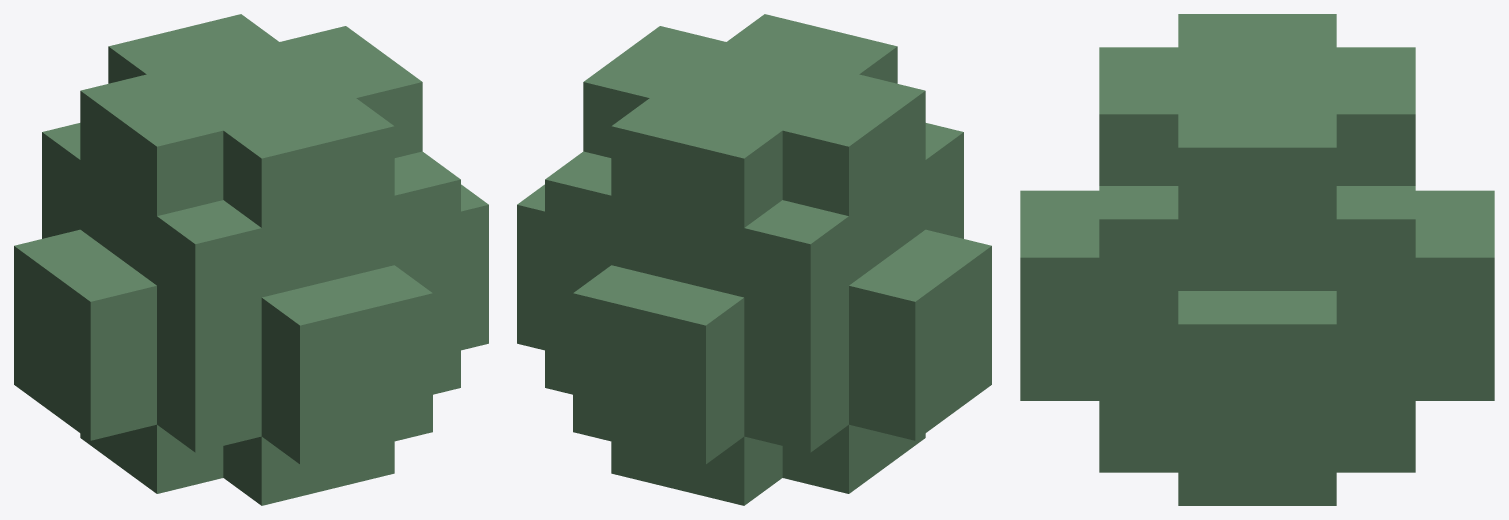
The model's file is mat_hydra_heart_lod1.glb.
The picture shows the model from 3 angles, left to right: view 1: azimuth 30°, elevation 25°; view 2: azimuth 150°, elevation 25°; view 3: azimuth 270°, elevation 25°; orthographic projection. The views are drawn at different scales.
Parts seen in each view (by area): view 1: mat_hydra_heart_lod1; view 2: mat_hydra_heart_lod1; view 3: mat_hydra_heart_lod1.
Boxes of the visible parts, <box> form: mat_hydra_heart_lod1: <box>14,14,488,505</box>; mat_hydra_heart_lod1: <box>517,14,991,505</box>; mat_hydra_heart_lod1: <box>1020,14,1494,505</box>.
Size of the model in its own units: 0.144 by 0.12 by 0.144.
